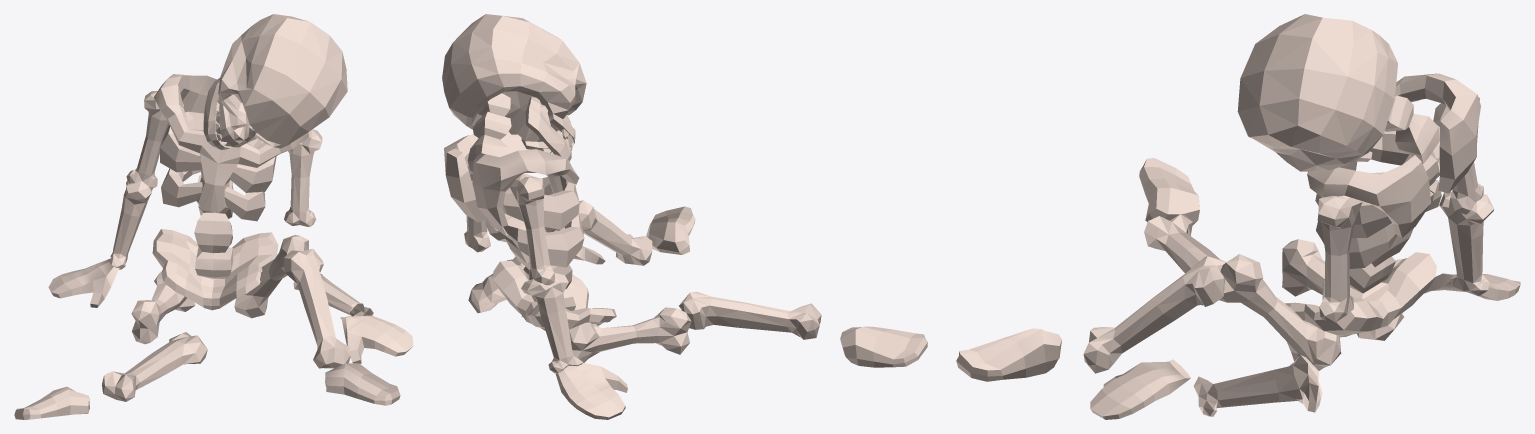
File: deadSkelly01.fbx
3 views of the same model, side by side, from view 1: azimuth 30°, elevation 25°; view 2: azimuth 150°, elevation 25°; view 3: azimuth 270°, elevation 25° (orthographic). The views are drawn at different scales.
Visible parts, largest first — view 1: deadSkelly01; view 2: deadSkelly01; view 3: deadSkelly01.
Part boxes in pixels (x1,y1,x2,y2): deadSkelly01: [14, 14, 413, 419]; deadSkelly01: [442, 14, 927, 419]; deadSkelly01: [956, 14, 1520, 419].
Bounding box in the file's own units: 1.69 × 1.23 × 1.62.
